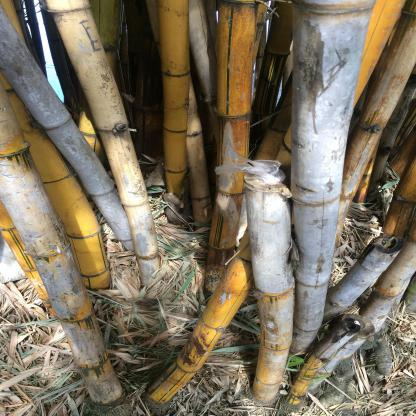plastik: (215, 154, 287, 186)
